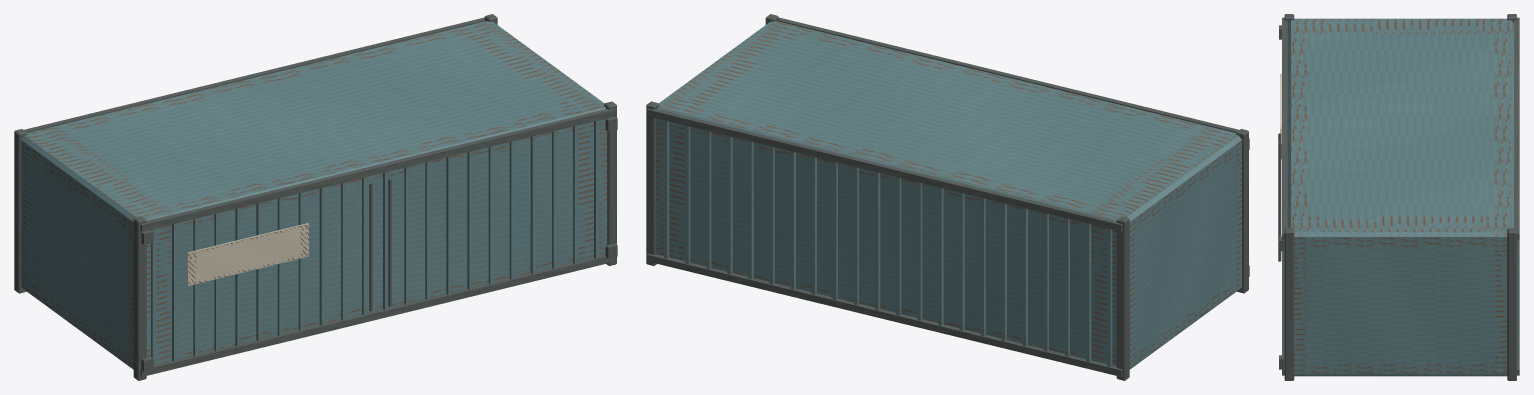
File: TealContainer.fbx
3 views of the same model, side by side, from view 1: azimuth 30°, elevation 25°; view 2: azimuth 150°, elevation 25°; view 3: azimuth 270°, elevation 25° (orthographic). The views are drawn at different scales.
Visible parts, largest first — view 1: TealContainer; view 2: TealContainer; view 3: TealContainer.
Boxes of the visible parts, x1,y1,x2,y2 form: TealContainer: [14, 14, 617, 380]; TealContainer: [646, 14, 1249, 380]; TealContainer: [1278, 14, 1519, 380].
Size of the model in its own units: 909 by 290 by 425.
